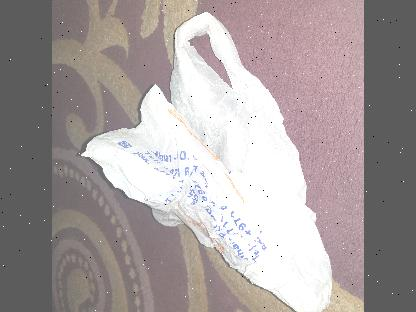Others: (77, 5, 342, 312)
